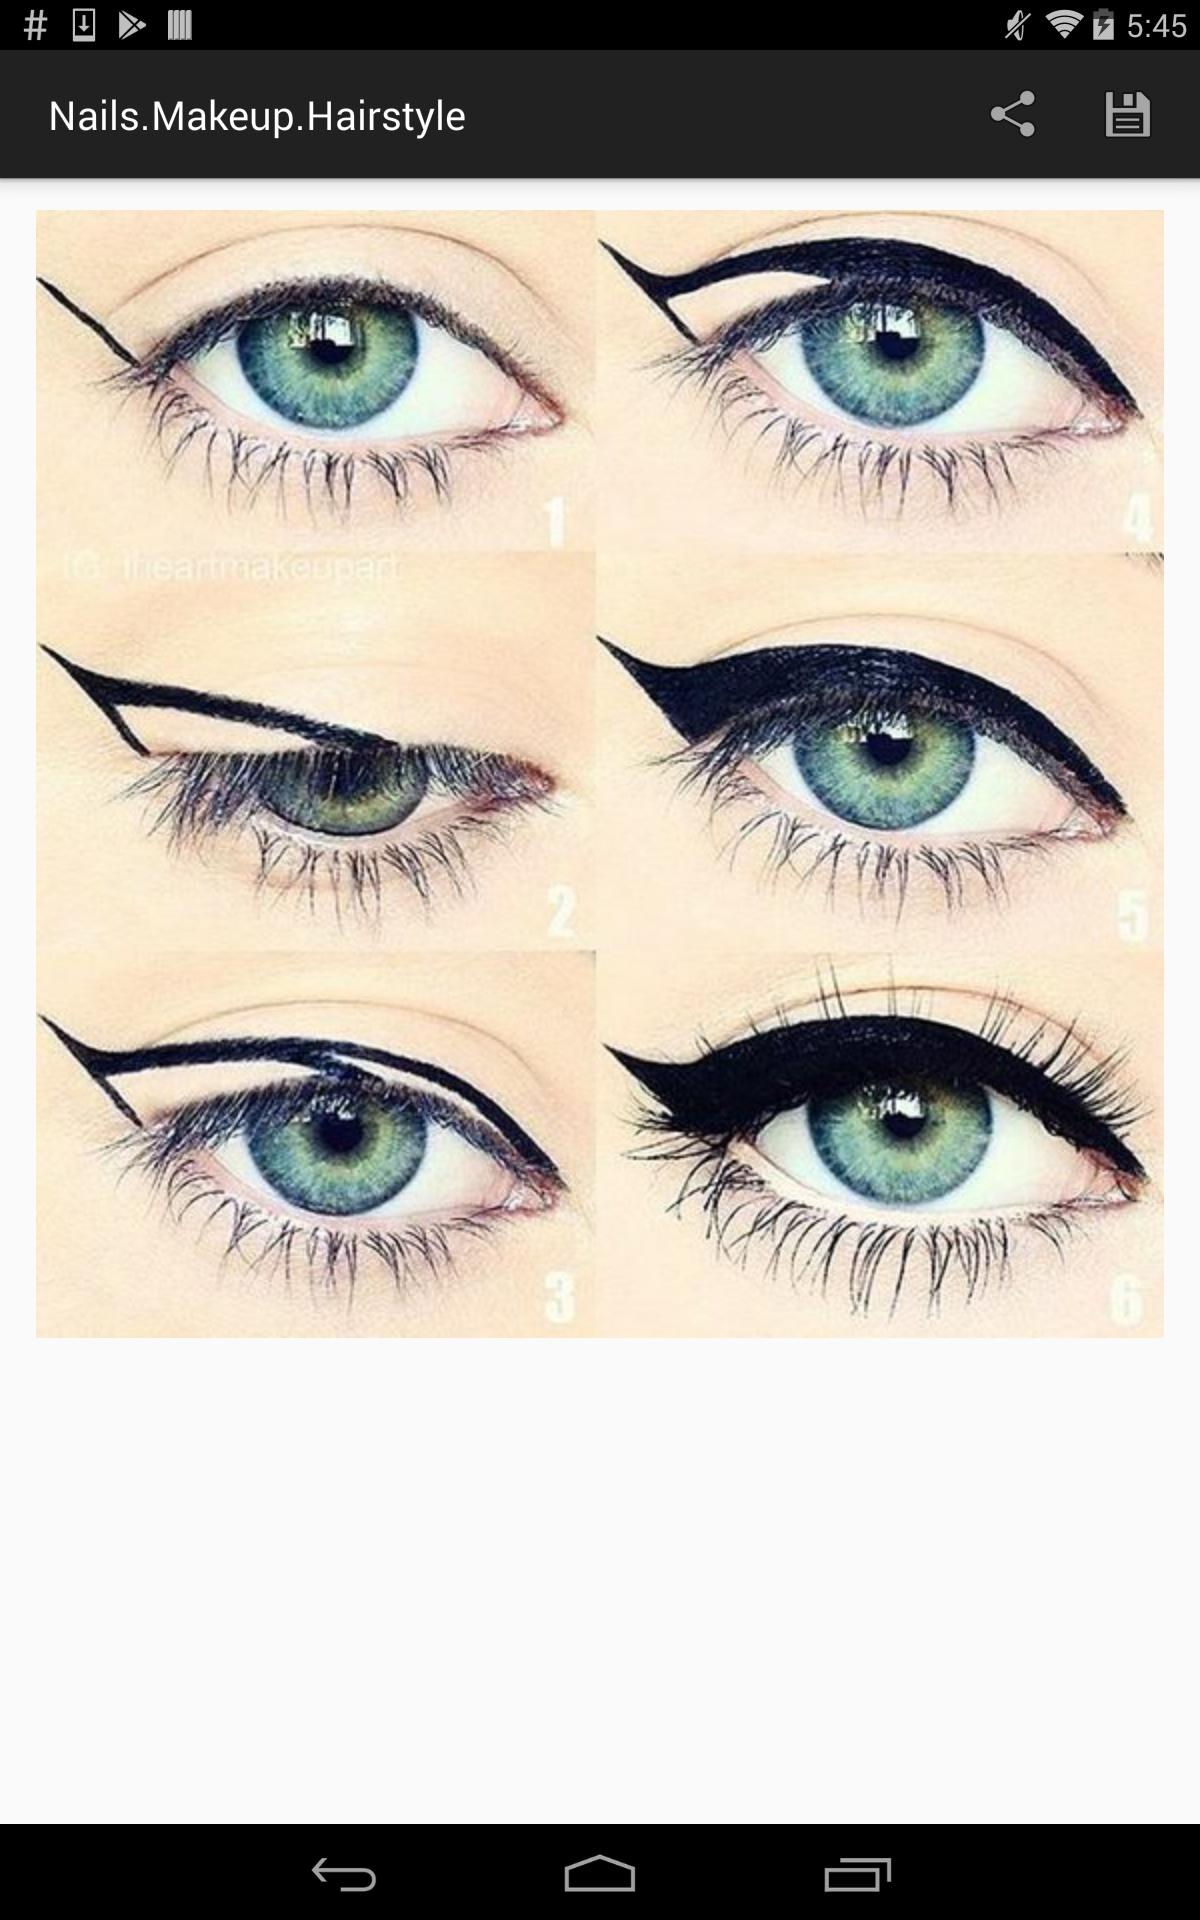android.support.v4.view.ViewPager: (0, 178, 1200, 1825)
android.support.v7.widget.LinearLayoutCompat: (959, 50, 1183, 178)
android.view.View: (0, 50, 1200, 1825), (0, 50, 1200, 178)
android.widget.FrameLayout: (0, 0, 1200, 1825), (0, 50, 1200, 1825), (0, 178, 1200, 1825), (0, 50, 1200, 178)
android.widget.ImageView: (36, 210, 1164, 1338)
android.widget.LinearLayout: (0, 0, 1200, 1825), (0, 178, 1200, 1825)
android.widget.RelativeLayout: (0, 178, 1200, 1825)
android.widget.ScrollView: (32, 210, 1168, 1791)
android.widget.TextView: (48, 87, 466, 141), (959, 66, 1071, 162), (1071, 66, 1183, 162)
